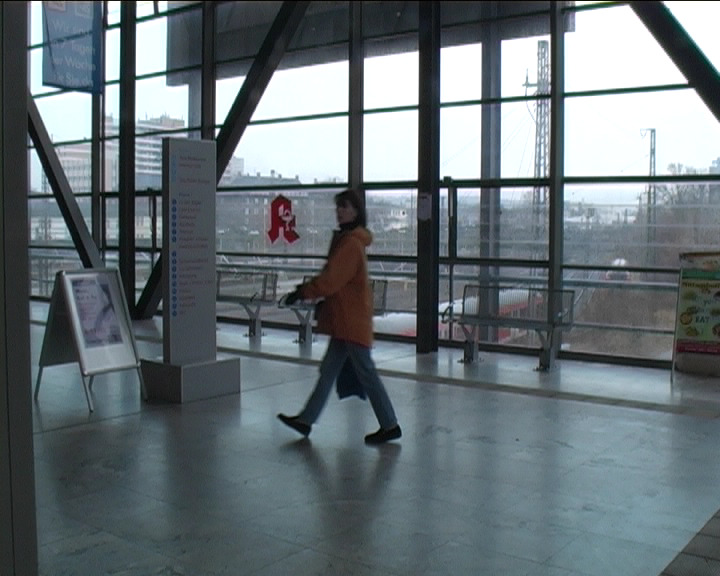deflection: (318, 187, 377, 293)
